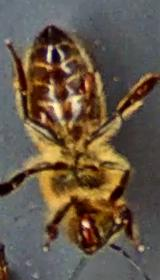varroa_mite: (23, 92, 58, 138), (68, 68, 97, 104)
